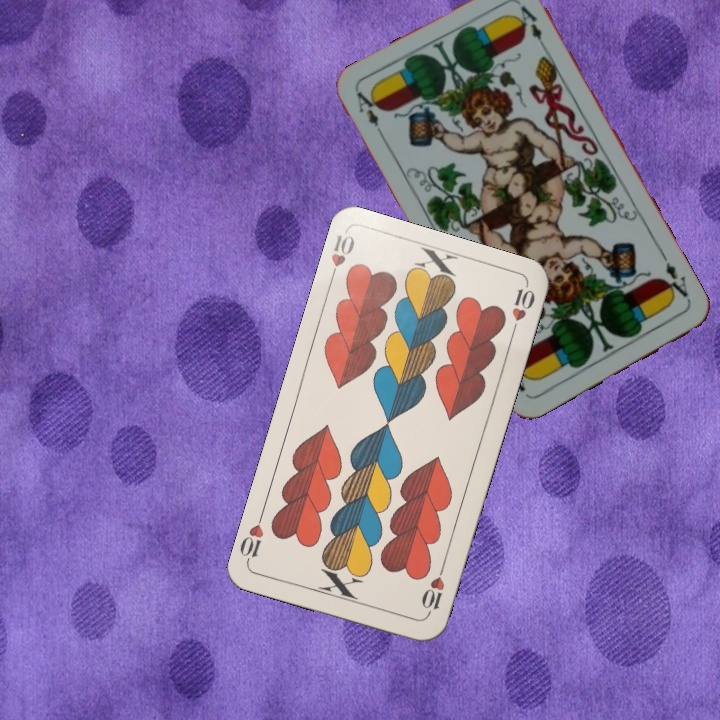EA: (353, 88, 388, 142), (658, 251, 690, 303)
H10: (417, 561, 448, 619), (325, 230, 357, 286)
